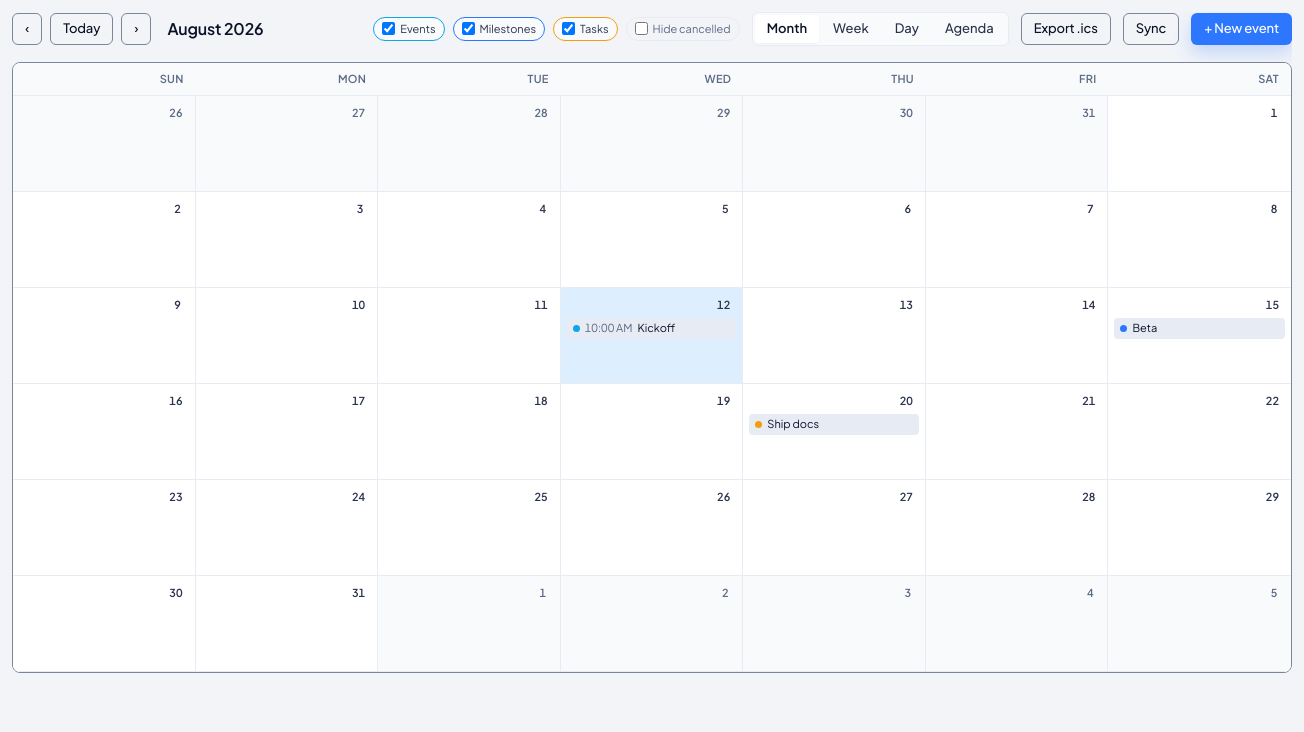
CalendarPanel › filters out a source when its toggle is switched off
The width and height of the screenshot is (1304, 732).
Expected: the text "Beta" is shown, [1132,320,1157,336]
Click the checkbox labelled "Milestones" at (468, 29), box [462,22,474,35]
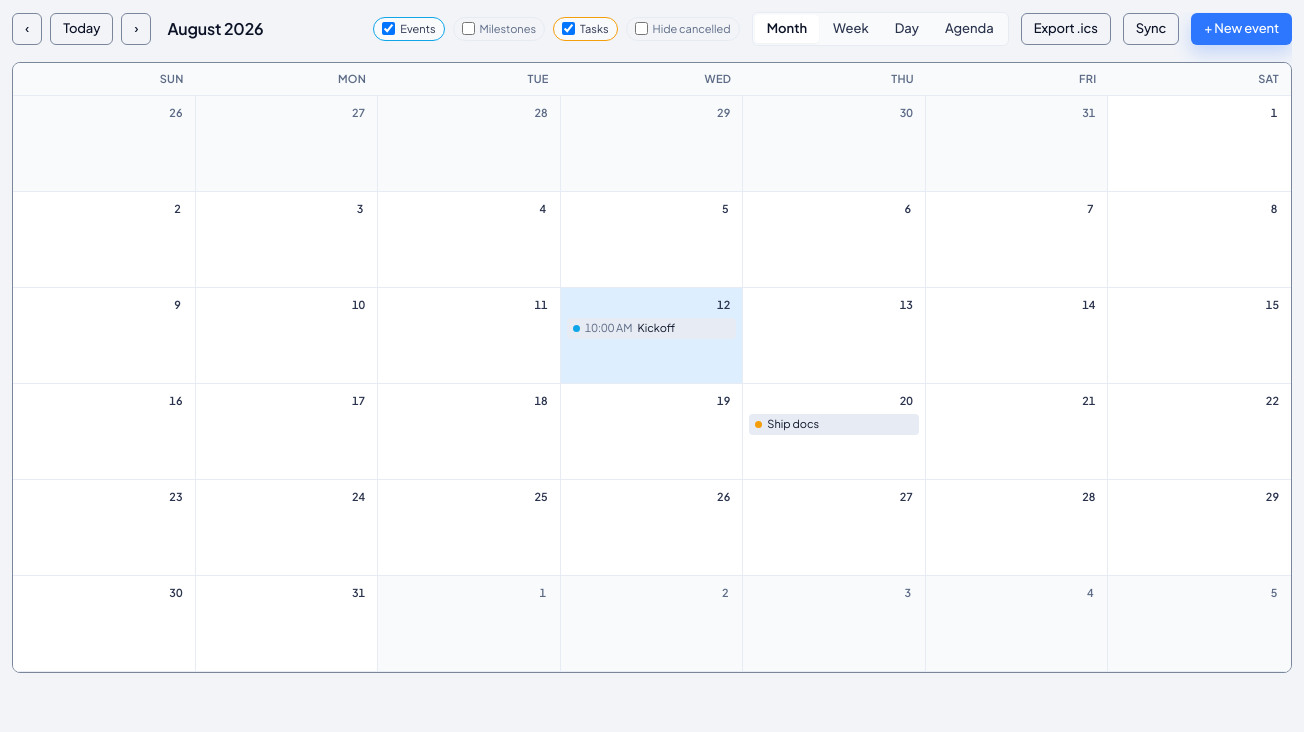
Expected: the text "Kickoff" is shown, [638,320,675,336]
Result: the button "Beta" is gone
